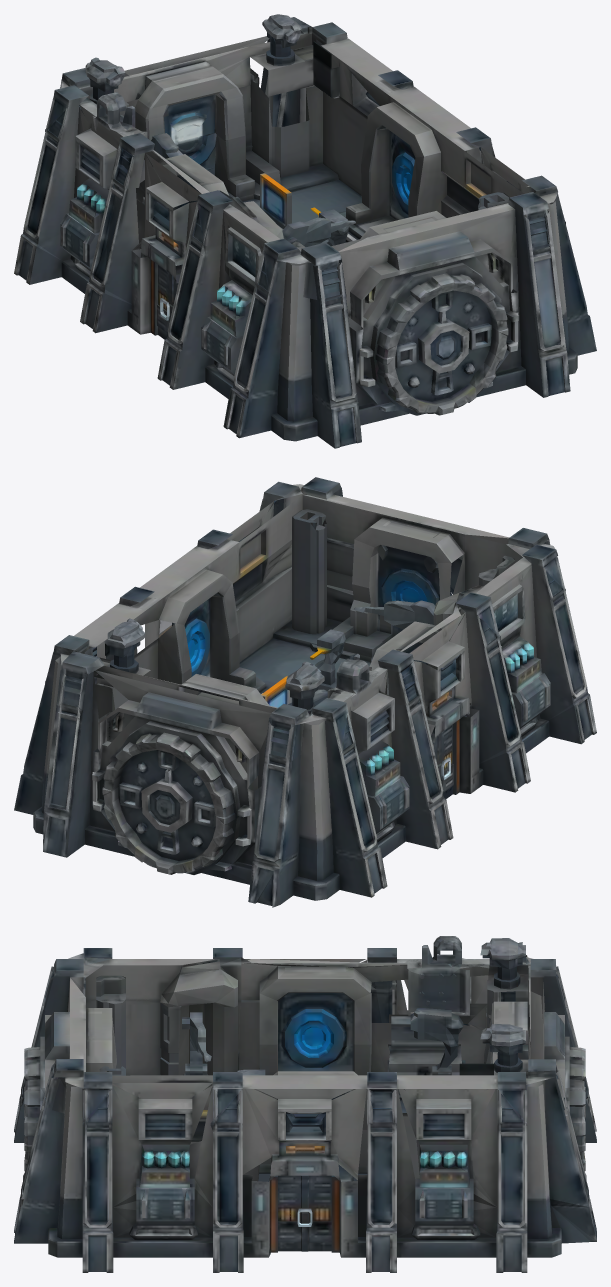
File: arsenal_LOD0.glb
The picture shows the model from 3 angles, top to bottom: view 1: azimuth 30°, elevation 25°; view 2: azimuth 150°, elevation 25°; view 3: azimuth 270°, elevation 25°; orthographic projection.
Visible parts, largest first — view 1: arsenal_LOD0; view 2: arsenal_LOD0; view 3: arsenal_LOD0.
Boxes of the visible parts, x1,y1,x2,y2 form: arsenal_LOD0: (14,14,596,448); arsenal_LOD0: (14,477,596,907); arsenal_LOD0: (14,936,596,1272).
Size of the model in its own units: 0.6971 by 0.373 by 0.9958.
1 material, 1 textured.
